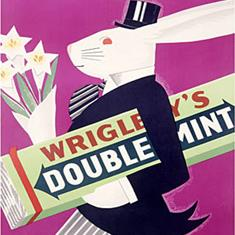Doublemint: (13, 81, 233, 197)
